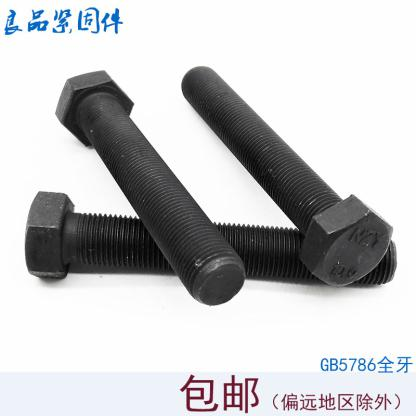FOD: (180, 64, 393, 289), (52, 69, 246, 306), (22, 188, 399, 286)
